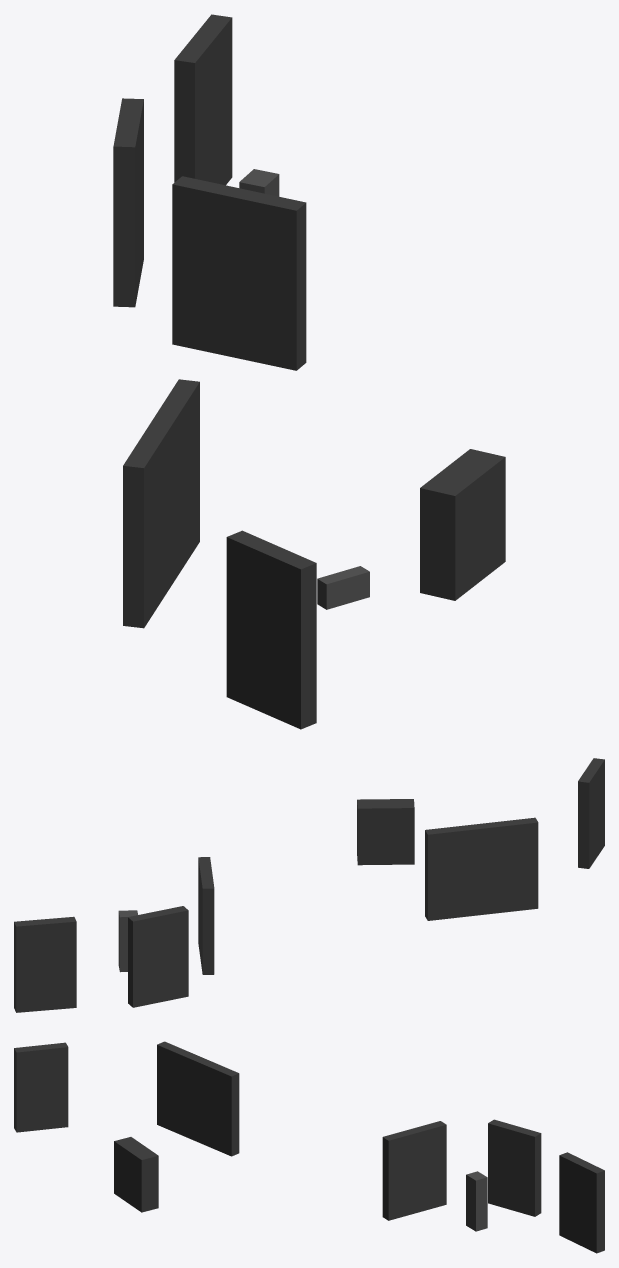
File: Naked_blockout_level1.fbx
3 views of the same model, one above another, from view 1: azimuth 30°, elevation 25°; view 2: azimuth 150°, elevation 25°; view 3: azimuth 270°, elevation 25° (orthographic). The views are drawn at different scales.
Parts seen in each view (by area): view 1: Cube.083, Cube.091, Cube.089, Cube.146, Cube.079, Cube.081, Cube.107; view 2: Cube.089, Cube.079, Cube.081, Cube.146, Cube.091, Cube.083, Cube.110; view 3: Cube.089, Cube.083, Cube.091, Cube.081, Cube.079, Cube.146, Cube.110.
Boxes of the visible parts, x1,y1,x2,y2 form: Cube.083: [172, 176, 306, 370]; Cube.091: [226, 530, 316, 729]; Cube.089: [123, 379, 199, 628]; Cube.146: [420, 449, 505, 600]; Cube.079: [174, 14, 232, 185]; Cube.081: [113, 98, 143, 307]; Cube.107: [317, 566, 369, 609]; Cube.089: [425, 817, 538, 920]; Cube.079: [14, 916, 76, 1012]; Cube.081: [128, 906, 188, 1007]; Cube.146: [357, 799, 414, 865]; Cube.091: [578, 758, 604, 868]; Cube.083: [198, 857, 214, 974]; Cube.110: [118, 910, 137, 972]; Cube.089: [157, 1041, 239, 1156]; Cube.083: [382, 1121, 446, 1220]; Cube.091: [14, 1042, 68, 1132]; Cube.081: [488, 1119, 541, 1216]; Cube.079: [559, 1152, 604, 1253]; Cube.146: [114, 1137, 158, 1212]; Cube.110: [466, 1171, 487, 1231].
Bounding box in the file's own units: 218 × 64.23 × 412.
